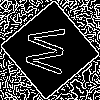W: (25, 25, 75, 76)
